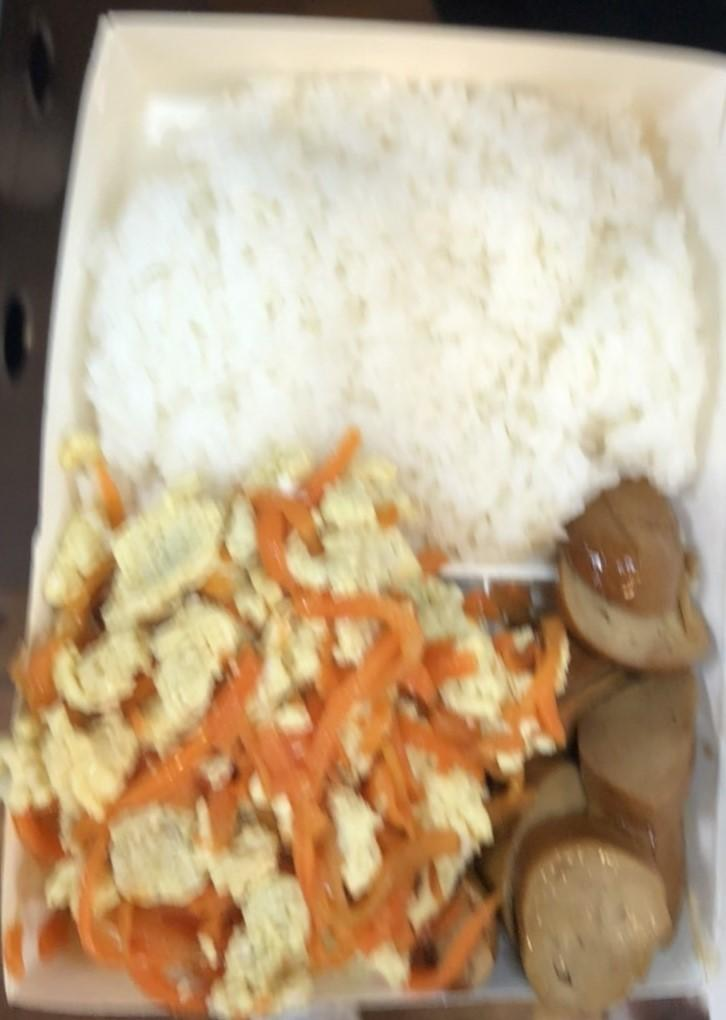big grilled chicken leg: (36, 0, 726, 1020)
big herbal chicken leg: (91, 48, 706, 520)
braised fish fillet: (22, 449, 533, 1004), (484, 483, 710, 1000)
